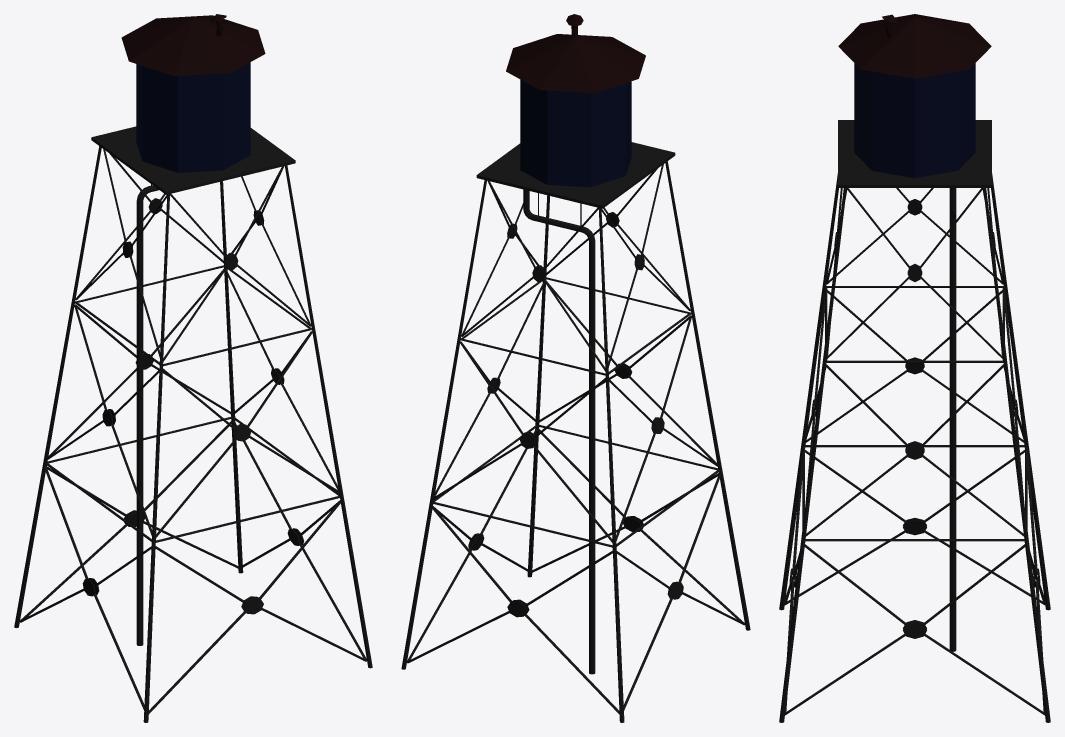
File: misc_waterTower.obj
3 renders of one model, left to right at view 1: azimuth 30°, elevation 25°; view 2: azimuth 150°, elevation 25°; view 3: azimuth 270°, elevation 25°, orthographic. The views are drawn at different scales.
Parts seen in each view (by area): view 1: Cylinder_Cylinder.001, Cube.001, Cube.002; view 2: Cylinder_Cylinder.001, Cube.001, Cube.002; view 3: Cylinder_Cylinder.001, Cube.001, Cube.002.
Boxes of the visible parts, x1,y1,x2,y2 form: Cylinder_Cylinder.001: [14, 126, 372, 722]; Cube.001: [136, 62, 250, 172]; Cube.002: [121, 14, 265, 76]; Cylinder_Cylinder.001: [401, 142, 750, 722]; Cube.001: [520, 79, 631, 187]; Cube.002: [506, 14, 645, 92]; Cylinder_Cylinder.001: [779, 120, 1050, 722]; Cube.001: [854, 63, 975, 178]; Cube.002: [838, 14, 991, 78].
Size of the model in its own units: 2.68 by 7.18 by 2.68.
